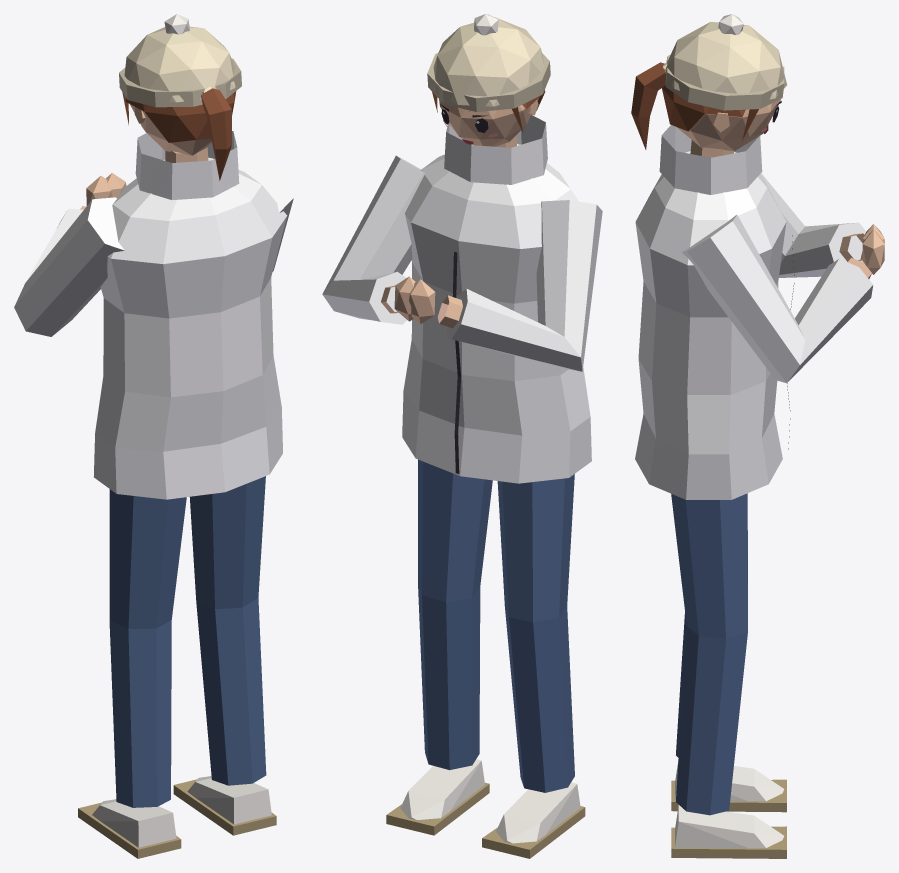
File: spectator_j.glb
3 views of the same model, side by side, from view 1: azimuth 30°, elevation 25°; view 2: azimuth 150°, elevation 25°; view 3: azimuth 270°, elevation 25° (orthographic).
Visible parts, largest first — view 1: spectator_j; view 2: spectator_j; view 3: spectator_j.
Boxes of the visible parts, x1,y1,x2,y2 form: spectator_j: [14, 14, 293, 858]; spectator_j: [322, 14, 602, 858]; spectator_j: [631, 14, 884, 858].
Bounding box in the file's own units: 0.5954 × 1.78 × 0.5039.
